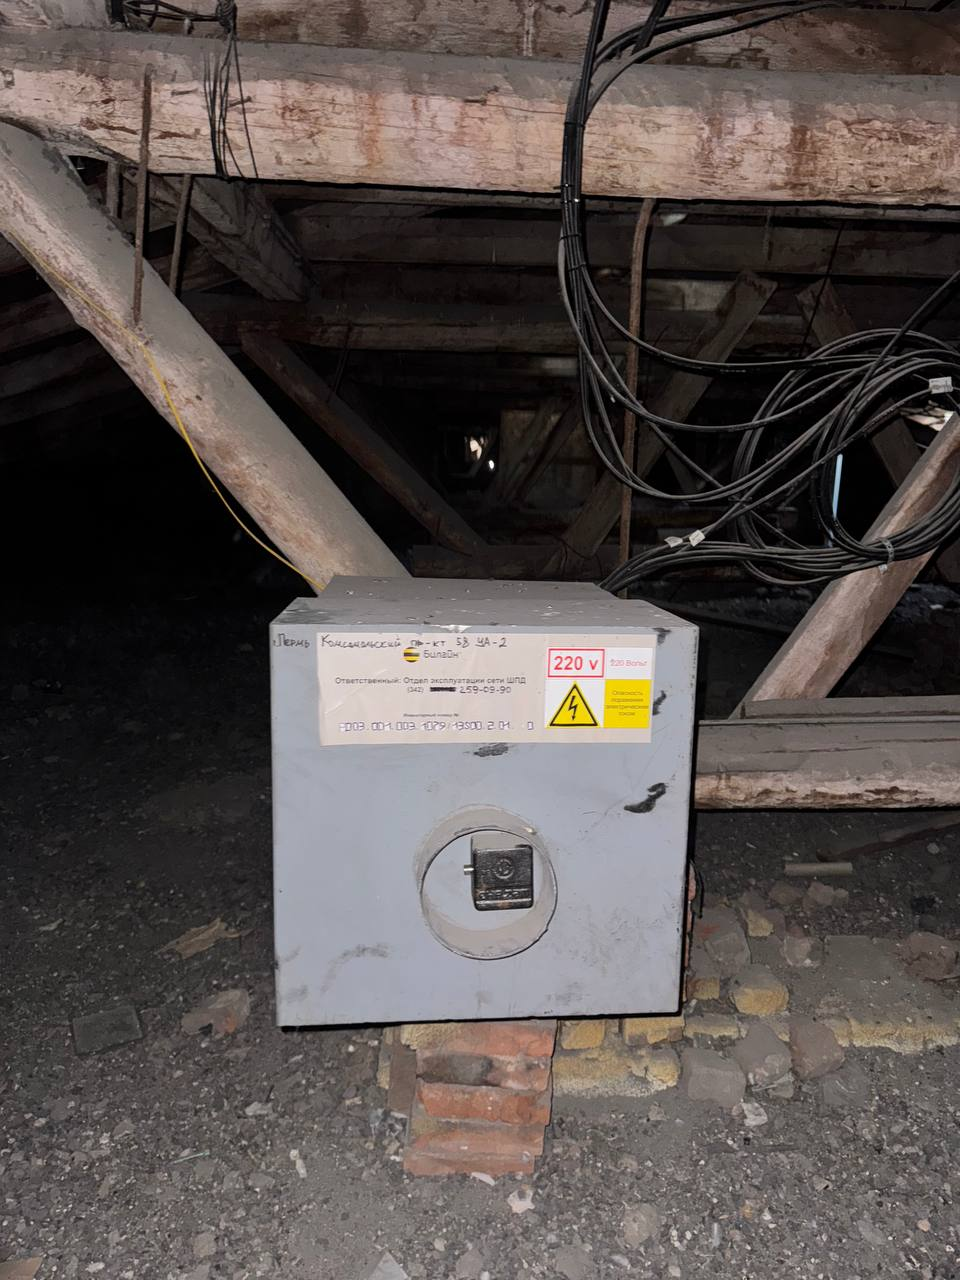shta-9: (254, 554, 711, 1036)
